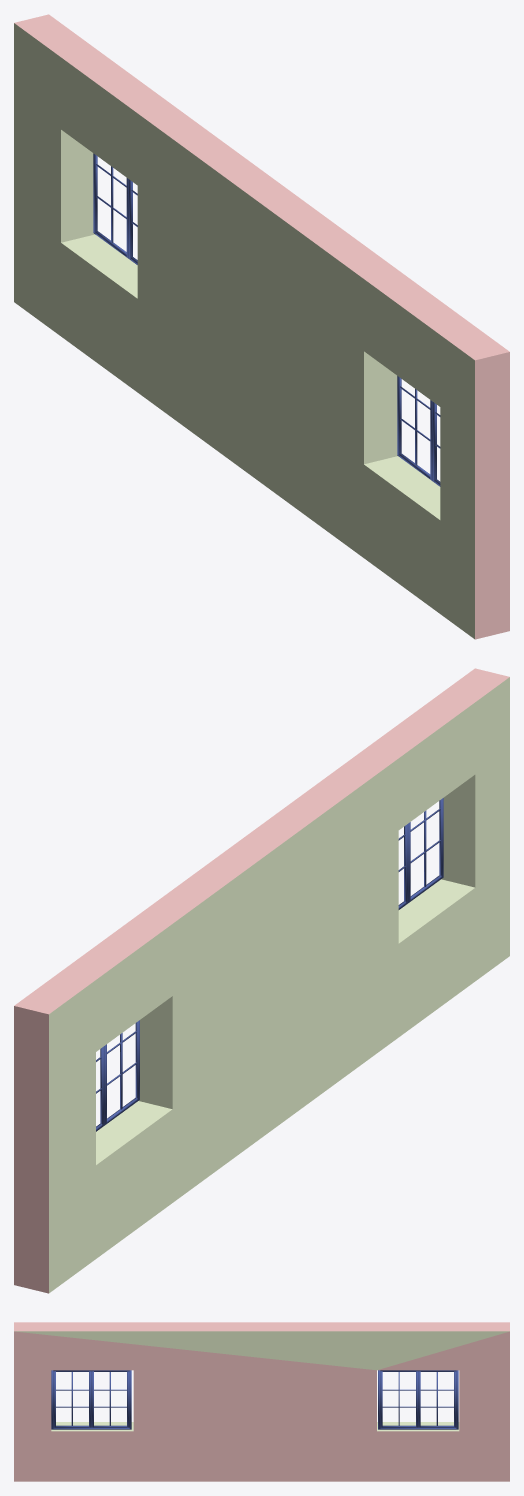
File: Pared2Arriba.obj
The picture shows the model from 3 angles, top to bottom: view 1: azimuth 30°, elevation 25°; view 2: azimuth 150°, elevation 25°; view 3: azimuth 270°, elevation 25°; orthographic projection. The views are drawn at different scales.
Parts seen in each view (by area): view 1: refri_edit23:Box007 pasted__group62 group71; view 2: refri_edit23:Box007 pasted__group62 group71; view 3: refri_edit23:Box007 pasted__group62 group71.
Part boxes in pixels (<box>): refri_edit23:Box007 pasted__group62 group71: <box>14,14,509,639</box>; refri_edit23:Box007 pasted__group62 group71: <box>14,668,509,1293</box>; refri_edit23:Box007 pasted__group62 group71: <box>14,1322,509,1481</box>.
Bounding box in the file's own units: 0.8689 × 6.64 × 19.87.
Materials: 5 (5 with a texture image).
